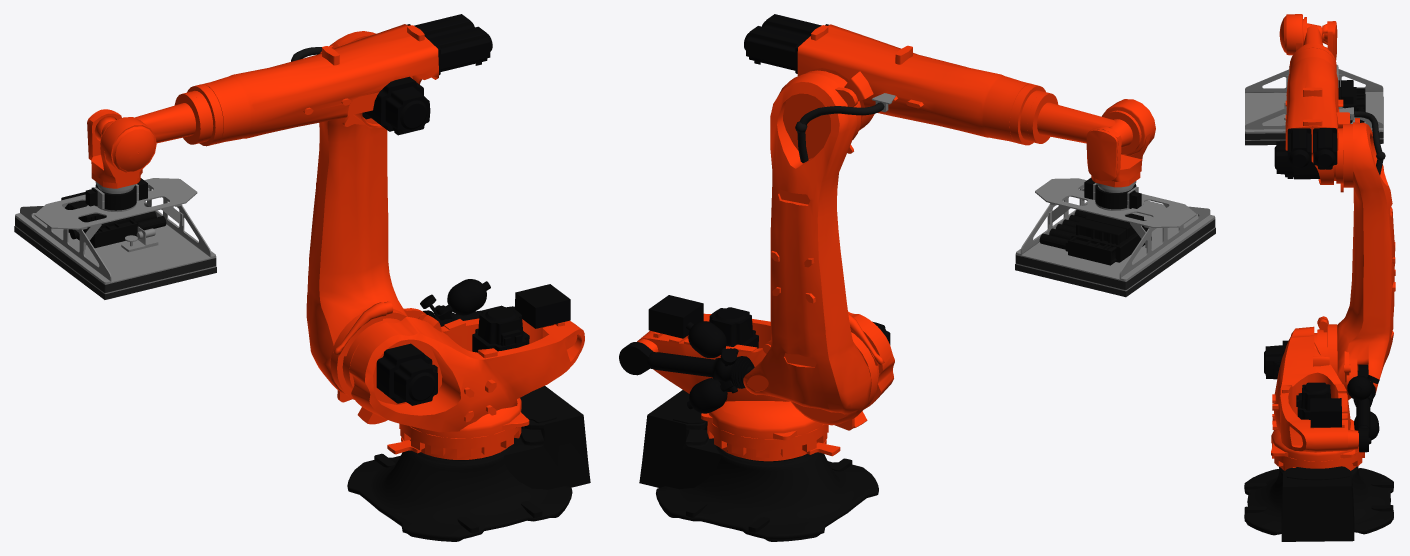
File: KUKA_V1.glb
3 views of the same model, side by side, from view 1: azimuth 30°, elevation 25°; view 2: azimuth 150°, elevation 25°; view 3: azimuth 270°, elevation 25° (orthographic). The views are drawn at different scales.
Visible parts, largest first — view 1: 转台, 固定底座, 大臂, 小臂, 吸盘, motor004, 小臂电机, 末端关节, 回转机构, 阻尼缸, 快拆机器人端口; view 2: 大臂, 固定底座, 吸盘, 小臂, 转台, 阻尼缸, 末端关节, 回转机构, motor004, 小臂电机, 管线; view 3: 大臂, 固定底座, 转台, 小臂, 吸盘, 小臂电机, motor004, 阻尼缸, 末端关节, 回转机构, 管线.
Part boxes in pixels (x1,y1,x2,y2): 转台: [349, 315, 584, 459]; 固定底座: [347, 386, 590, 541]; 大臂: [306, 31, 426, 402]; 小臂: [187, 24, 438, 146]; 吸盘: [14, 178, 216, 299]; motor004: [376, 284, 570, 405]; 小臂电机: [362, 14, 492, 135]; 末端关节: [87, 109, 156, 193]; 回转机构: [100, 92, 205, 145]; 阻尼缸: [420, 279, 514, 326]; 快拆机器人端口: [85, 178, 147, 202]; 大臂: [743, 70, 884, 430]; 固定底座: [639, 390, 878, 541]; 吸盘: [1015, 178, 1215, 297]; 小臂: [797, 24, 1045, 145]; 转台: [637, 311, 894, 461]; 阻尼缸: [619, 321, 754, 413]; 末端关节: [1086, 99, 1155, 192]; 回转机构: [1027, 92, 1141, 154]; motor004: [648, 295, 890, 348]; 小臂电机: [744, 14, 828, 73]; 管线: [799, 102, 884, 125]; 大臂: [1314, 118, 1395, 399]; 固定底座: [1244, 463, 1393, 541]; 转台: [1271, 326, 1364, 470]; 小臂: [1285, 44, 1350, 184]; 吸盘: [1245, 65, 1383, 145]; 小臂电机: [1274, 128, 1337, 179]; motor004: [1264, 340, 1341, 427]; 阻尼缸: [1347, 375, 1379, 452]; 末端关节: [1279, 14, 1337, 59]; 回转机构: [1297, 17, 1328, 50]; 管线: [1354, 111, 1382, 153].
Size of the model in its own units: 20.21 by 17.24 by 6.44.
